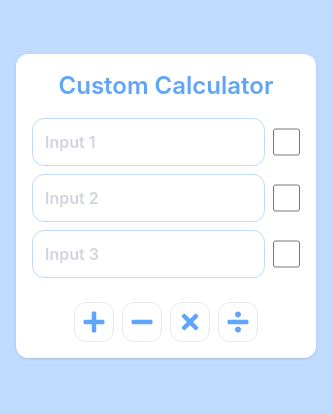
Test: Home › operator substrack › shows correct result when input 1 2 3 is filled and substract is clicked
This screenshot has width=333, height=414.
In the number field with placeholder "Input 1": {"x": 148, "y": 142} [32,118,265,166], type "1"
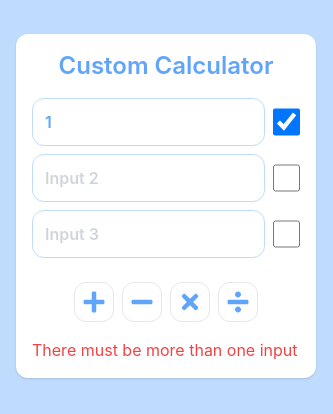
In the number field with placeholder "Input 2": {"x": 148, "y": 178} [32,154,265,202], type "2"
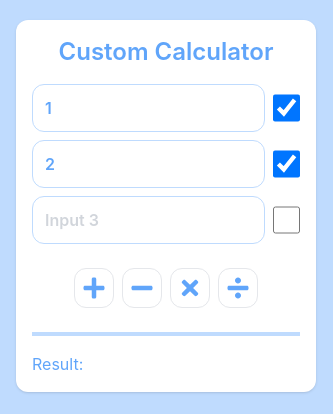
In the number field with placeholder "Input 3": {"x": 148, "y": 220} [32,196,265,244], type "3"
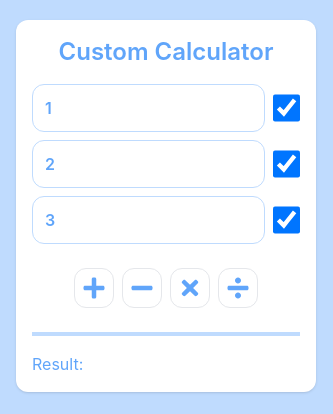
Click the icon with test id "substract": {"x": 142, "y": 288} [130,276,154,300]
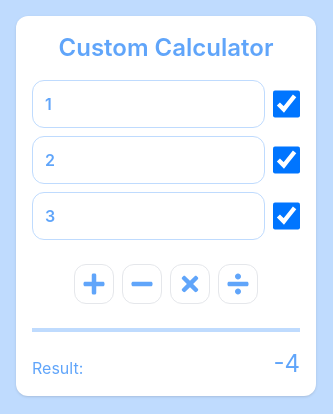
Expected: the text "Result:" is shown, [32,356,83,380]
Expected: the text "-4" is shown, [274,348,300,380]
